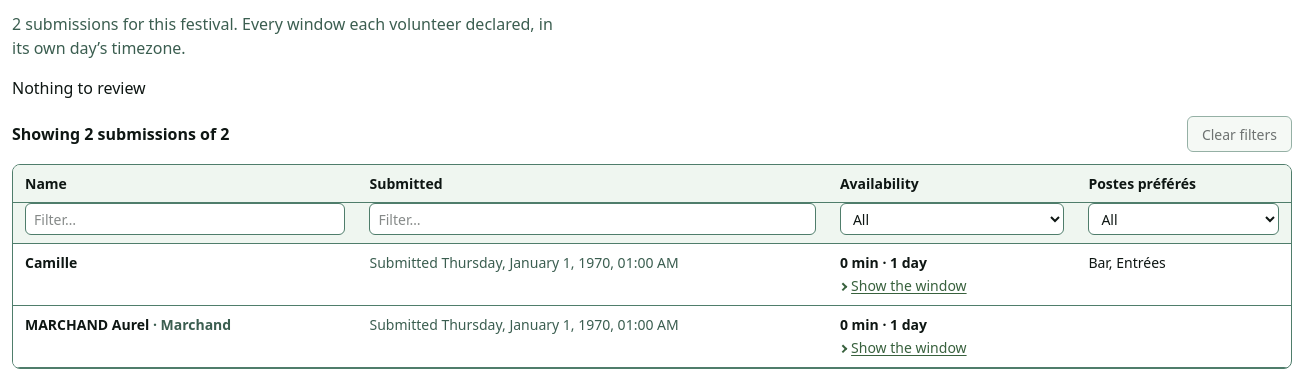
Test: PlanSubmissionsView › says so when no row matches the filters
Type "nobody by that name" into the 1st search field with placeholder "Filter…" at (185, 219), box [25,203,346,235]
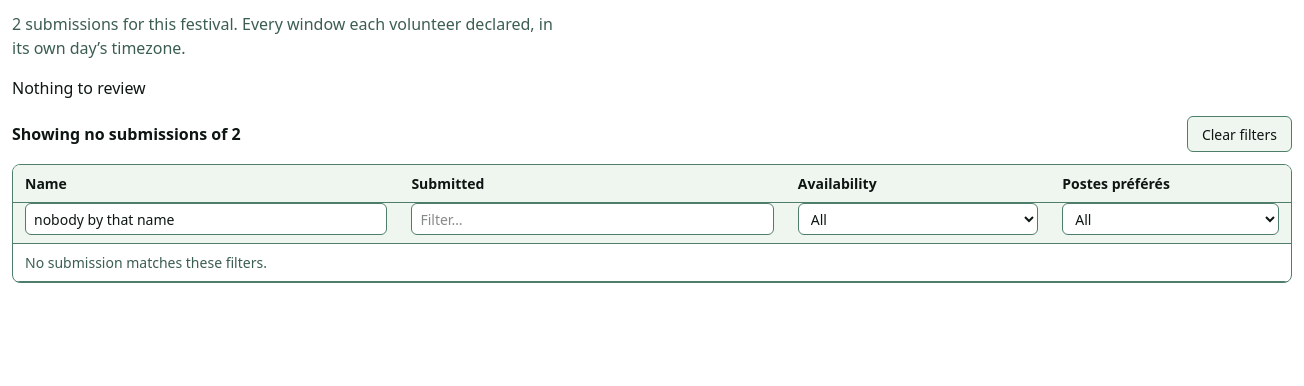
Expected: no rows with class "evp-submission" are shown
Expected: the text "No submission matches these filters" is shown, [25,253,267,272]
